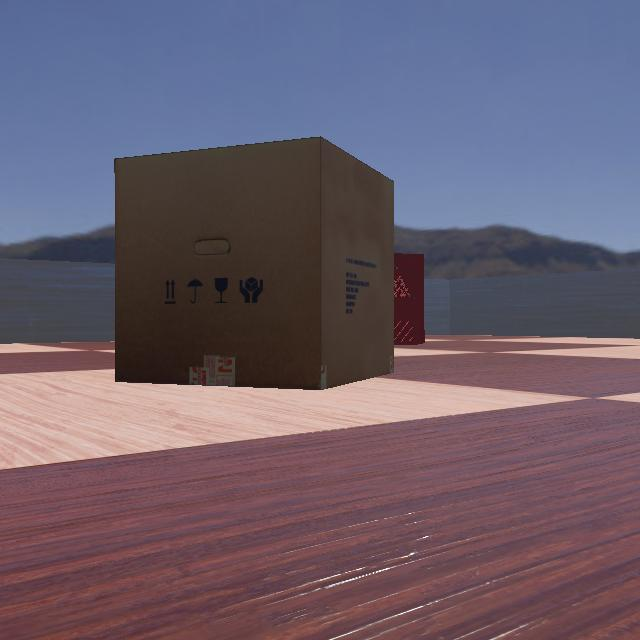cardboard-box: (86, 135, 418, 389)
